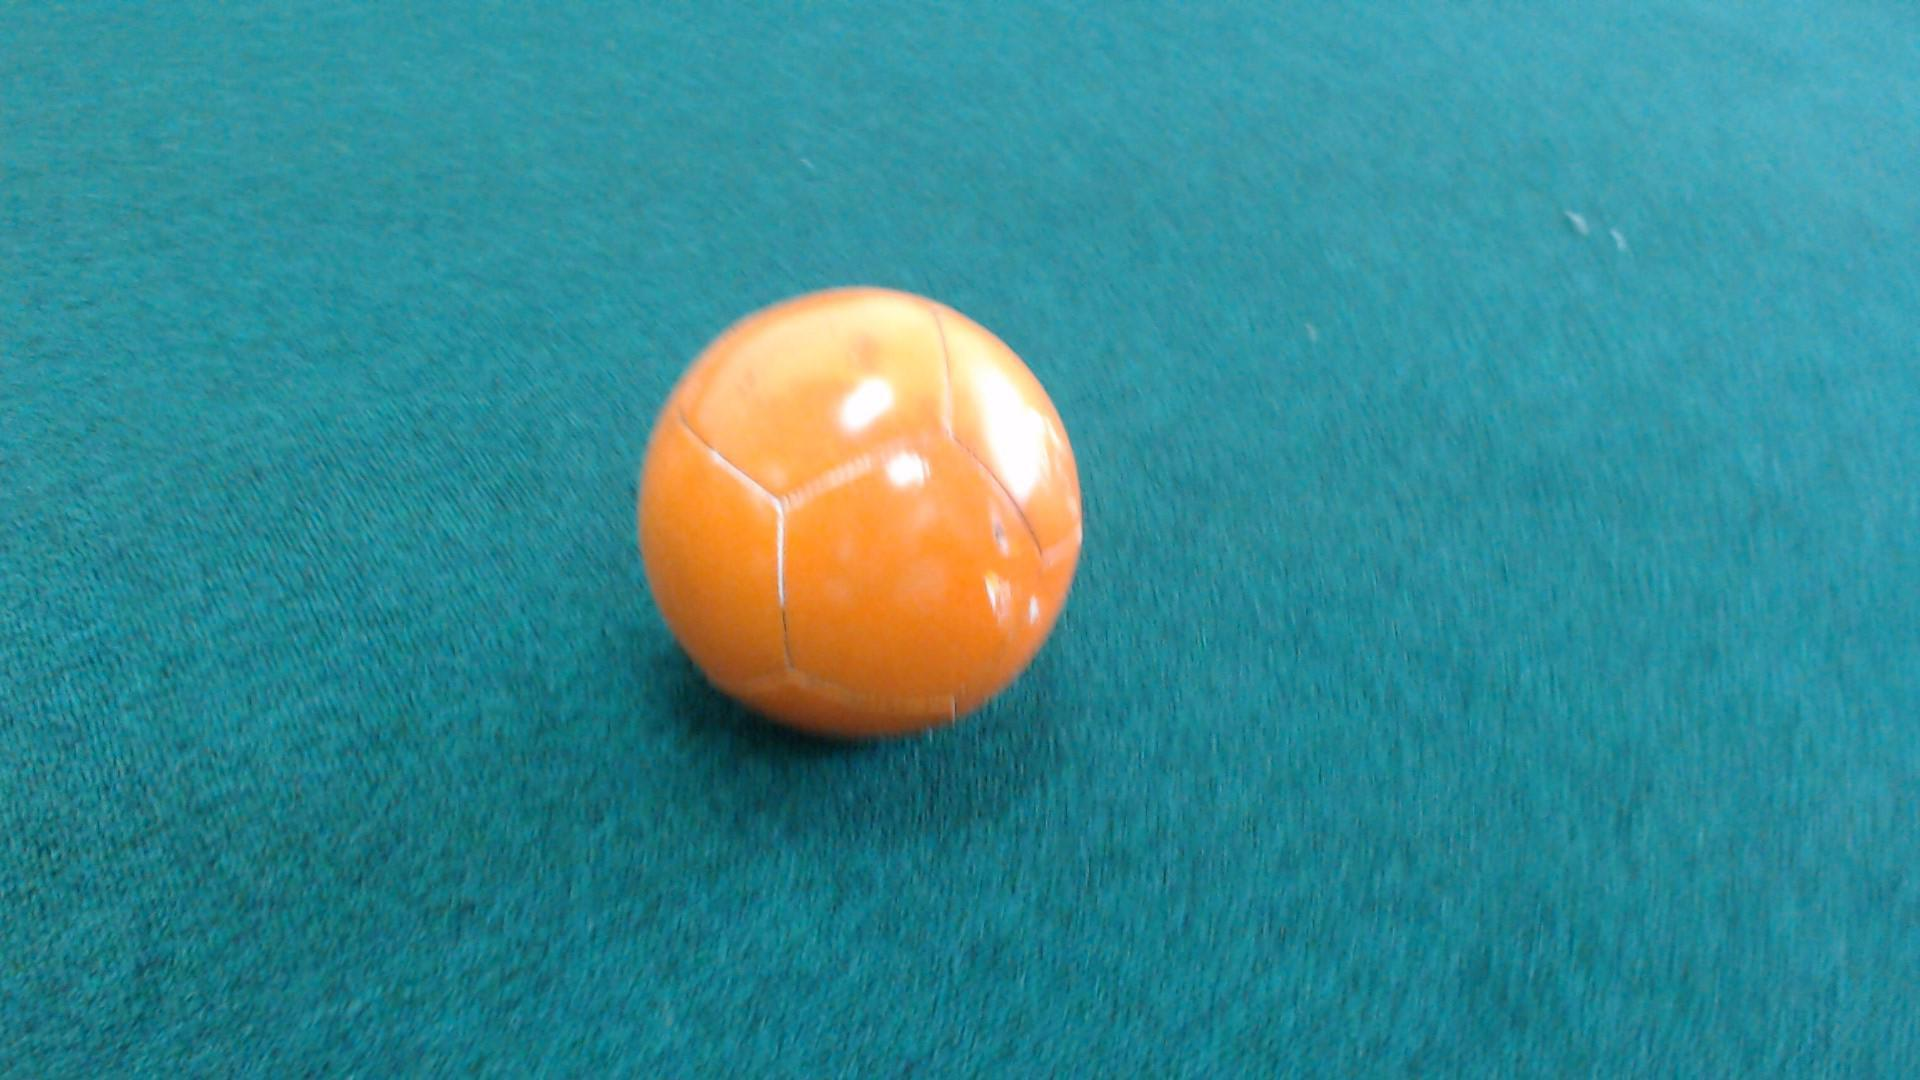bola: (628, 276, 1106, 761)
